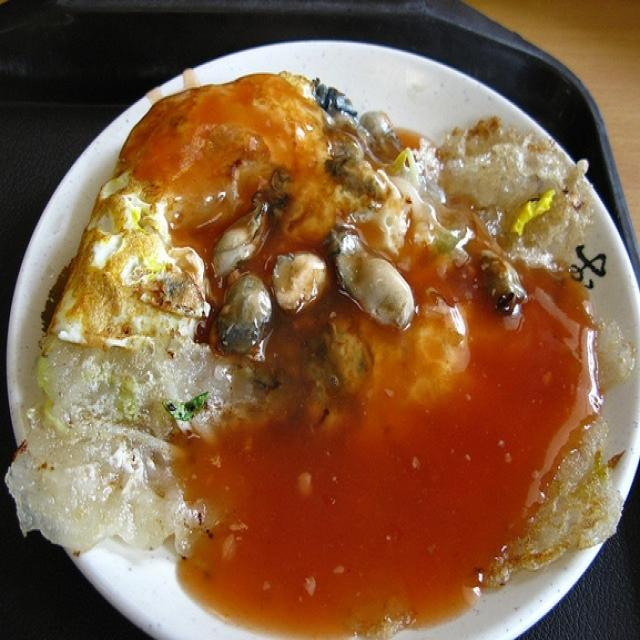熟制海鲜: (40, 67, 613, 608)
